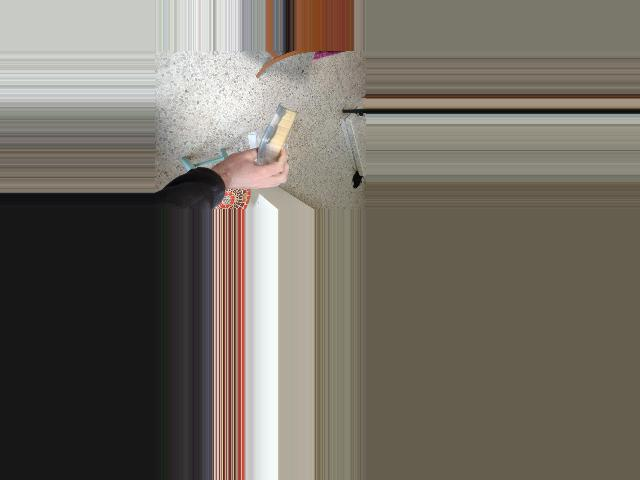cheese: (240, 100, 317, 195)
